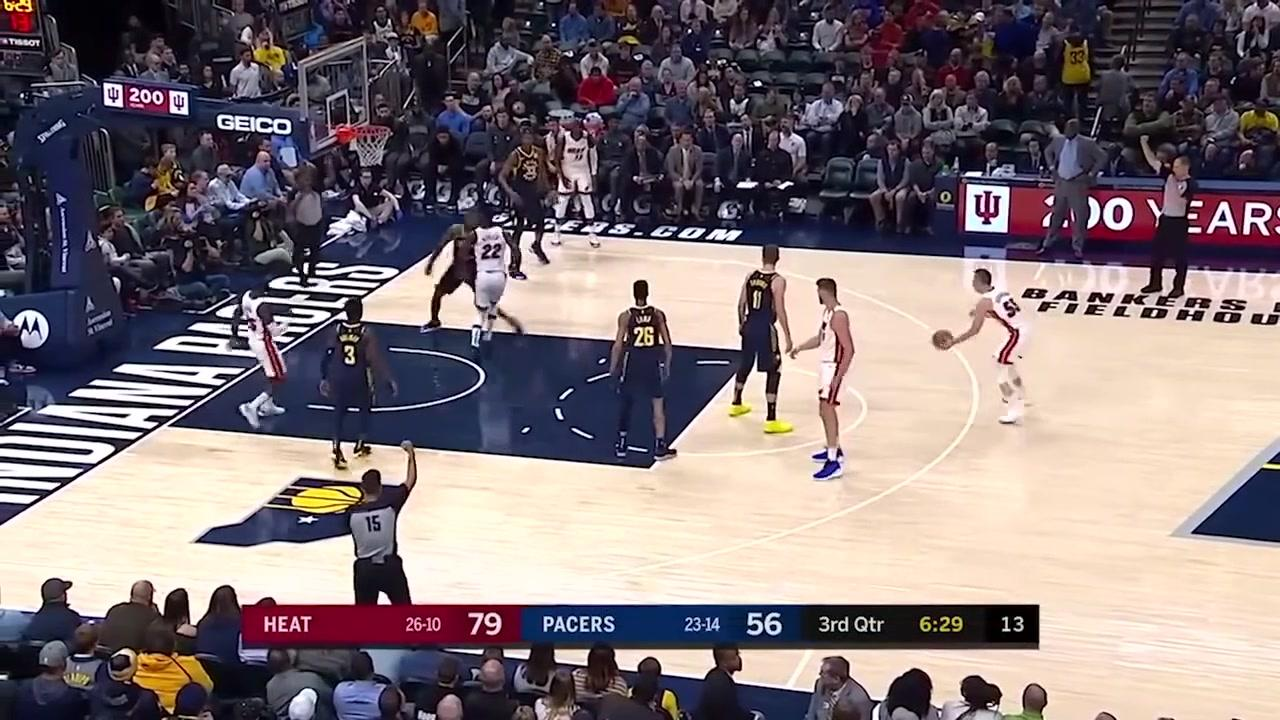no_foul: (423, 204, 525, 338)
